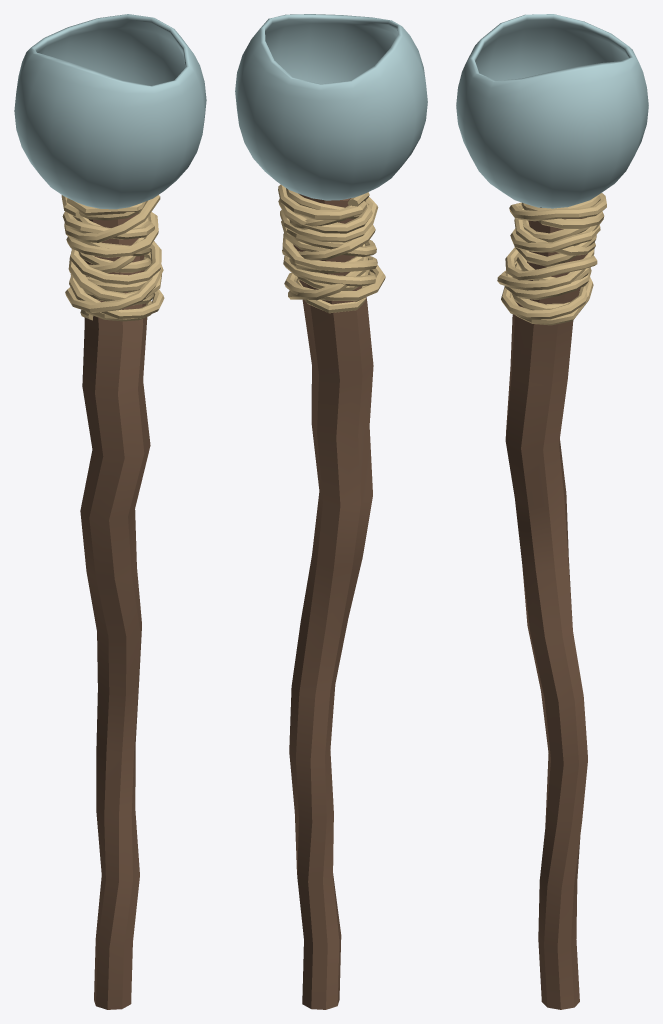
Rendered from atoll_Torch.fbx.
3 views of the same model, side by side, from view 1: azimuth 30°, elevation 25°; view 2: azimuth 150°, elevation 25°; view 3: azimuth 270°, elevation 25° (orthographic).
Visible parts, largest first — view 1: Stick, glassOrb, Wrap2, Wrap1; view 2: Stick, glassOrb, Wrap2, Wrap1; view 3: Stick, glassOrb, Wrap2, Wrap1.
Boxes of the visible parts, x1,y1,x2,y2 form: Stick: (80, 213, 150, 1009); glassOrb: (14, 14, 206, 209); Wrap2: (61, 195, 164, 318); Wrap1: (70, 201, 153, 321); Stick: (289, 193, 373, 1009); glassOrb: (235, 14, 427, 200); Wrap2: (278, 184, 385, 300); Wrap1: (286, 188, 369, 313); Stick: (505, 207, 587, 1009); glassOrb: (456, 14, 648, 208); Wrap2: (497, 193, 606, 319); Wrap1: (511, 195, 603, 325).
Size of the model in its own units: 52.1 by 286 by 52.1.
